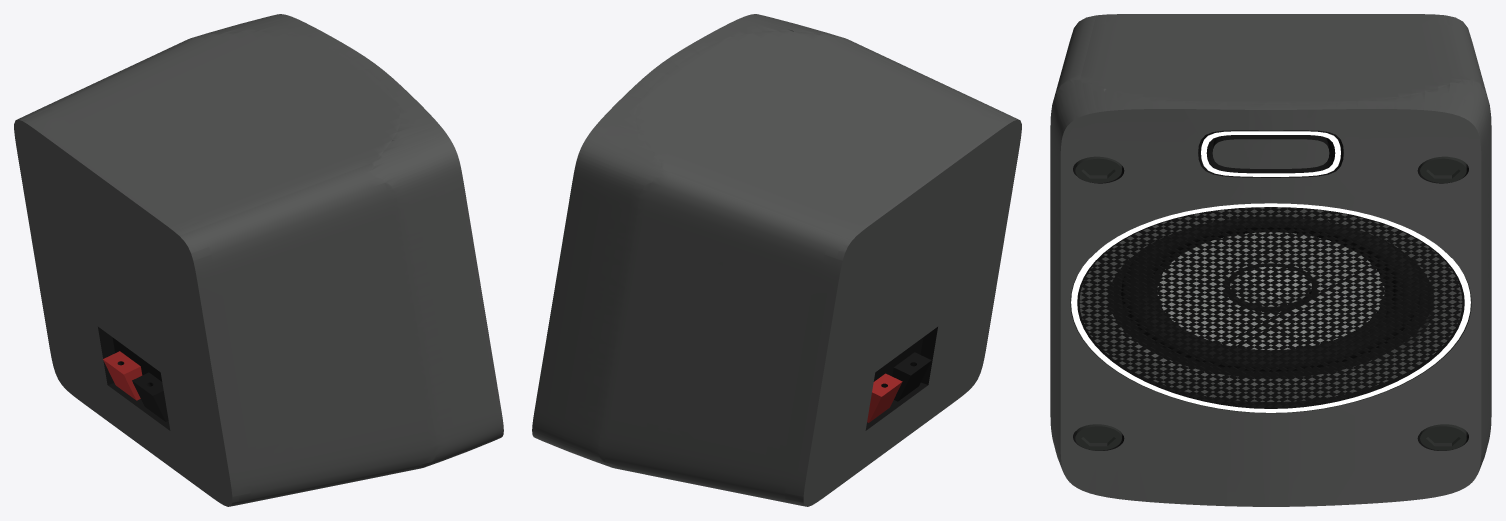
The model's file is spk-creative-pebble-v3.glb.
3 renders of one model, left to right at view 1: azimuth 30°, elevation 25°; view 2: azimuth 150°, elevation 25°; view 3: azimuth 270°, elevation 25°, orthographic. The views are drawn at different scales.
Visible parts, largest first — view 1: body; view 2: body; view 3: body.
Part boxes in pixels (x1,y1,x2,y2): body: [14, 14, 503, 506]; body: [532, 14, 1021, 506]; body: [1050, 14, 1491, 506].
Size of the model in its own units: 0.116 by 0.115 by 0.122.
Materials: 6 (1 with a texture image).
